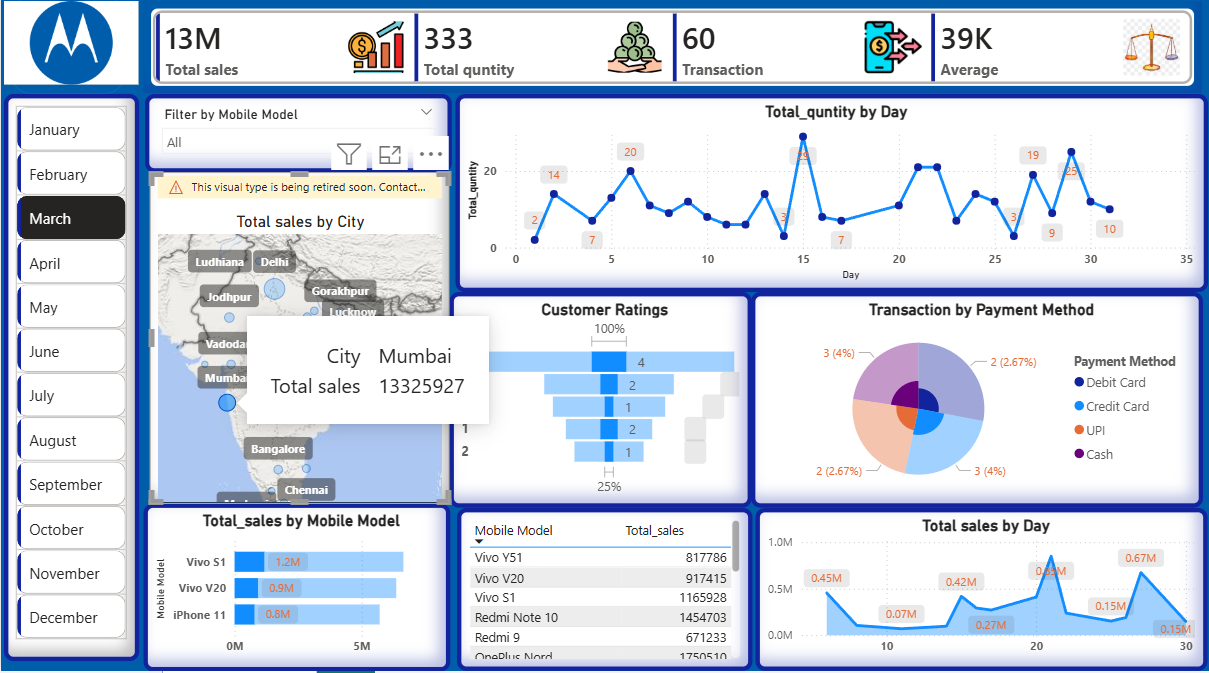

This screenshot's page, from the dashboard's own definition file:
{"tool":"powerbi","page":{"name":"mobile sale","canvas":[1280,720],"ordinal":0},"visuals":[{"type":"shape","box":[11.5,4.9,119.7,103.3],"z":0},{"type":"image","box":[3.3,9.8,142.6,88.5],"z":1000},{"type":"advancedSlicerVisual","fields":{"Values":["sales.Dates.Variation.Date Hierarchy.Month"]},"box":[3.2,108.2,143.2,601.3],"z":2000},{"type":"cardVisual","fields":{"Data":["sales.Total_sales","sales.Total_quntity","sales.Transaction","sales.Average"]},"box":[150.8,10.2,1122,98.3],"z":3000},{"type":"map","fields":{"Size":["sales.Total_sales"],"Category":["sales.City"]},"box":[157.6,191.5,318.6,350.8],"z":4000},{"type":"lineChart","fields":{"Category":["sales.Dates.Variation.Date Hierarchy.Month","sales.Dates.Variation.Date Hierarchy.Day"],"Y":["sales.Total_quntity"]},"box":[481.4,108.5,798.3,210.2],"z":5000},{"type":"clusteredBarChart","fields":{"Category":["sales.Mobile Model"],"Y":["sales.Total_sales"]},"box":[150.8,542.4,325.4,178],"z":6000},{"type":"pieChart","fields":{"Category":["sales.Payment Method"],"Y":["sales.Transaction"]},"box":[794.9,318.6,479.7,228.8],"z":7000},{"type":"funnel","title":"Customer Ratings ","fields":{"Category":["sales.Customer Ratings"],"Y":["CountNonNull(sales.Customer Ratings)"]},"box":[476.3,318.6,320.3,228.8],"z":8000},{"type":"areaChart","title":"Total sales by Day ","fields":{"Category":["sales.Dates.Variation.Date Hierarchy.Day"],"Y":["sales.Total_sales"]},"box":[800,547.5,479.7,172.9],"z":9000},{"type":"tableEx","fields":{"Values":["sales.Mobile Model","sales.Total_sales"]},"box":[483.1,547.5,313.6,172.9],"z":10000},{"type":"slicer","fields":{"Values":["sales.Mobile Model"]},"box":[152.5,108.5,325.4,83.1],"z":11000}]}

Visuals, with their boxes in screenshot pixels (x1, y1, x2, y2), scaled from the page's 1280x720 canvas onto the 1209x673 screenshot:
shape: 11/5/124/101
image: 3/9/138/92
advancedSlicerVisual - sales.Dates.Variation.Date Hierarchy.Month: 3/101/138/663
cardVisual - sales.Total_sales x sales.Total_quntity: 142/10/1202/101
map - sales.Total_sales x sales.City: 149/179/450/507
lineChart - sales.Dates.Variation.Date Hierarchy.Month x sales.Dates.Variation.Date Hierarchy.Day: 455/101/1208/298
clusteredBarChart - sales.Mobile Model x sales.Total_sales: 142/507/450/672
pieChart - sales.Payment Method x sales.Transaction: 751/298/1204/512
"Customer Ratings " funnel: 450/298/752/512
"Total sales by Day " areaChart: 756/512/1208/672
tableEx - sales.Mobile Model x sales.Total_sales: 456/512/753/672
slicer - sales.Mobile Model: 144/101/451/179
